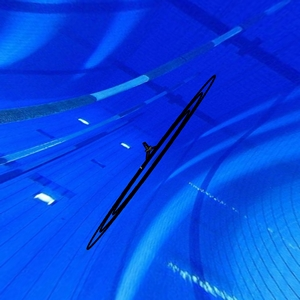circle: (84, 74, 227, 254)
submarine: (141, 140, 157, 161)
